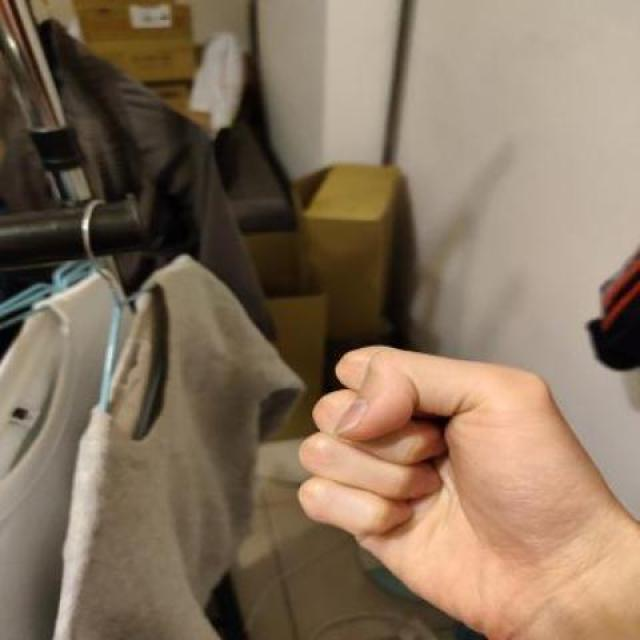Closed Hand: (281, 325, 640, 639)
